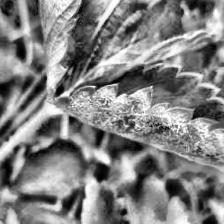Powdery Mildew Leaf: (47, 59, 224, 189), (61, 0, 217, 93), (33, 0, 111, 99)
